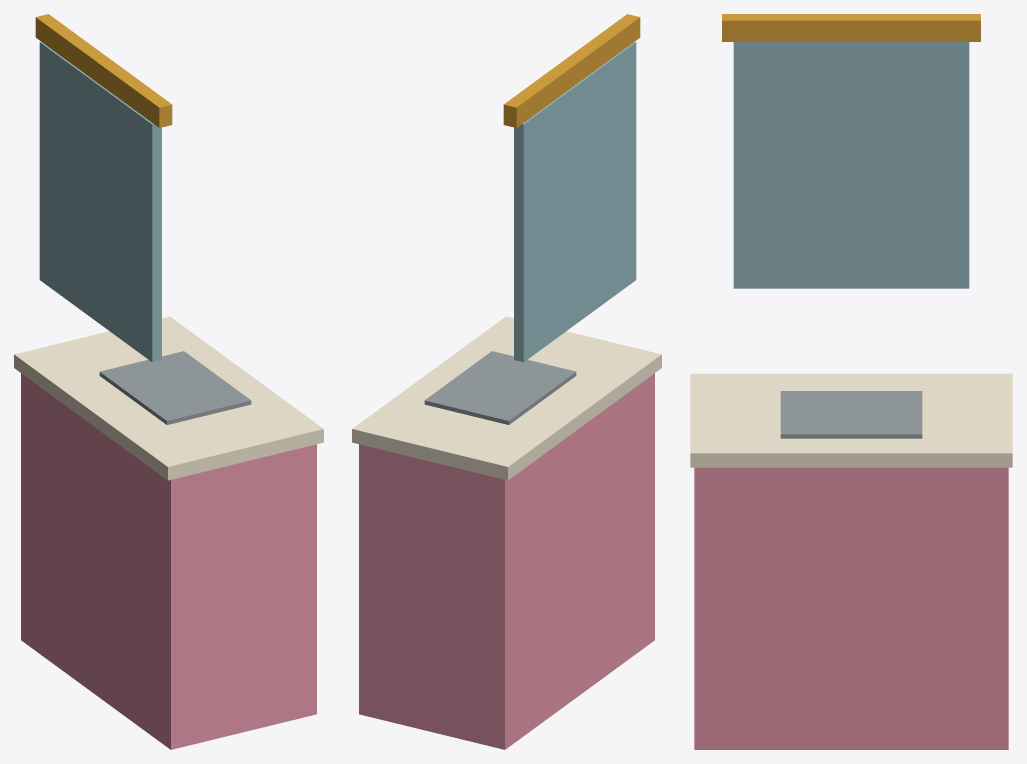
File: bath_sink.glb
The picture shows the model from 3 angles, left to right: view 1: azimuth 30°, elevation 25°; view 2: azimuth 150°, elevation 25°; view 3: azimuth 270°, elevation 25°; orthographic projection. The views are drawn at different scales.
Parts seen in each view (by area): view 1: Box1, Box4, Box2, Box3, Box5; view 2: Box1, Box4, Box2, Box3, Box5; view 3: Box1, Box4, Box2, Box5, Box3.
Part boxes in pixels (<box>): Box1: <box>21,373,316,749</box>; Box4: <box>39,42,161,362</box>; Box2: <box>14,316,323,480</box>; Box3: <box>99,351,251,424</box>; Box5: <box>35,14,172,127</box>; Box1: <box>359,373,654,749</box>; Box4: <box>514,42,636,362</box>; Box2: <box>352,316,661,480</box>; Box3: <box>424,351,576,424</box>; Box5: <box>503,14,640,127</box>; Box1: <box>694,467,1008,749</box>; Box4: <box>733,42,969,288</box>; Box2: <box>690,373,1012,467</box>; Box5: <box>722,14,980,41</box>; Box3: <box>780,391,922,438</box>.
Bounding box in the file's own units: 0.48 × 1.86 × 0.82.
